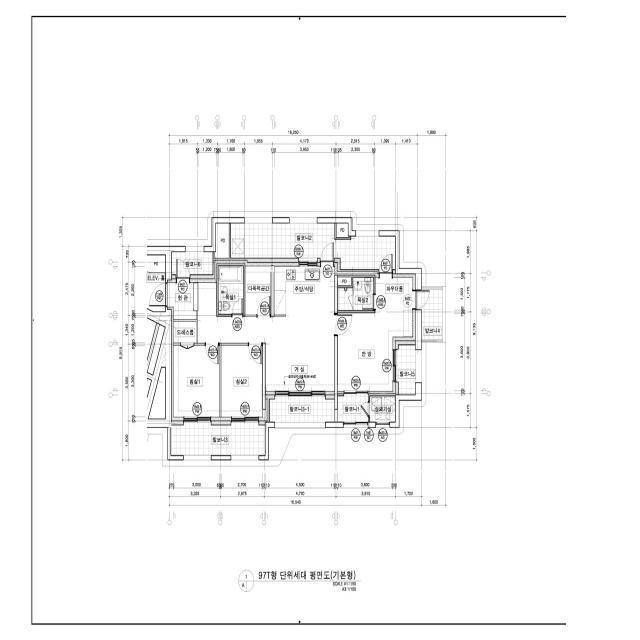background: (0, 0, 640, 640)
space_balconi: (231, 223, 395, 272), (171, 422, 265, 455), (270, 396, 335, 422), (416, 290, 443, 339), (172, 252, 213, 277), (396, 345, 415, 395), (338, 394, 368, 422)
space_bedroom: (337, 313, 416, 394), (171, 345, 220, 421), (221, 345, 263, 421)
space_dressroom: (375, 273, 416, 313), (171, 322, 196, 343)
space_elevator_hall: (147, 273, 165, 311)
space_front: (167, 279, 198, 320)
space_kitchen: (274, 262, 337, 315)
space_living_room: (198, 279, 335, 395)
space_multipurpose_space: (245, 262, 271, 315)
space_other: (215, 223, 229, 258), (336, 223, 349, 237), (338, 277, 351, 286)
space_outdoor_room: (370, 396, 395, 422)
space_toilet: (219, 266, 243, 314), (338, 278, 373, 310)
